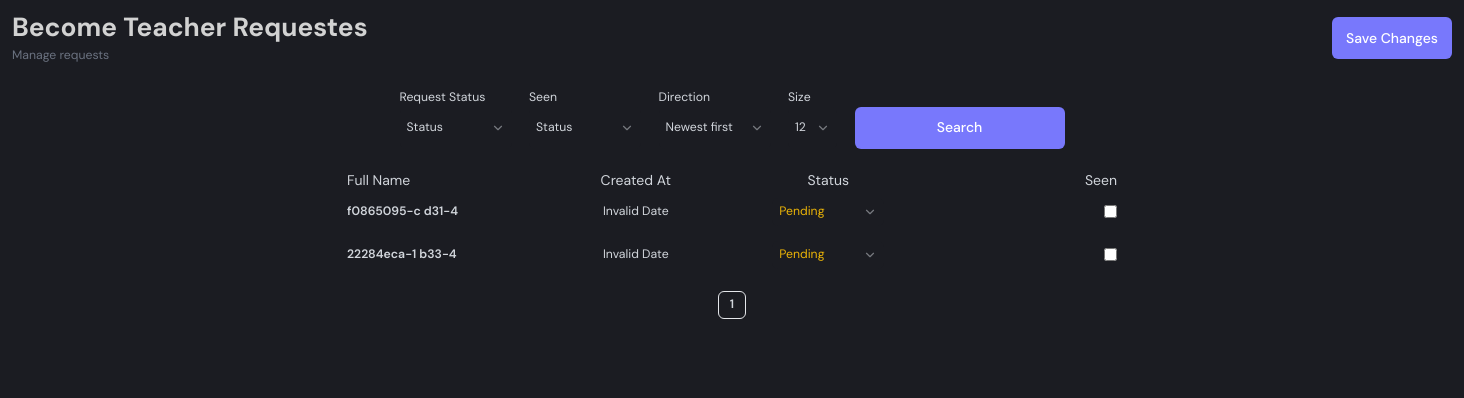
Test: TeacherRequestAdminPage › Interactions › changed values are reflected
The width and height of the screenshot is (1464, 398).
Step 1. Click the dropdown labelled "Pending" in the row of "f0865095-c" → click(828, 212), box [772,198,884,226]
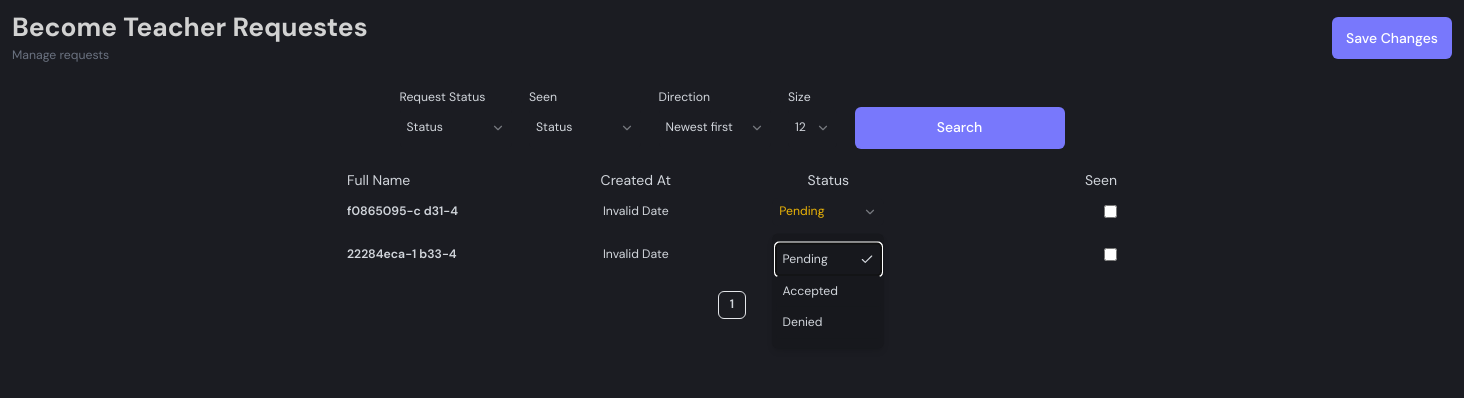
Step 2. Click the option "Accepted" → click(828, 291), box [776,275,880,306]
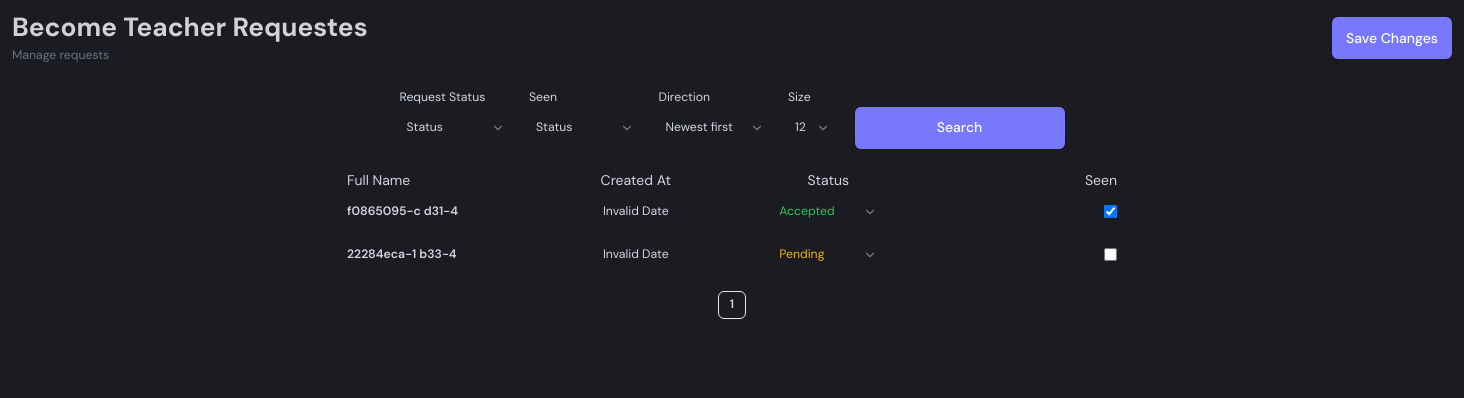
Step 3. Click the dropdown labelled "Pending" → click(828, 254), box [772,240,884,268]
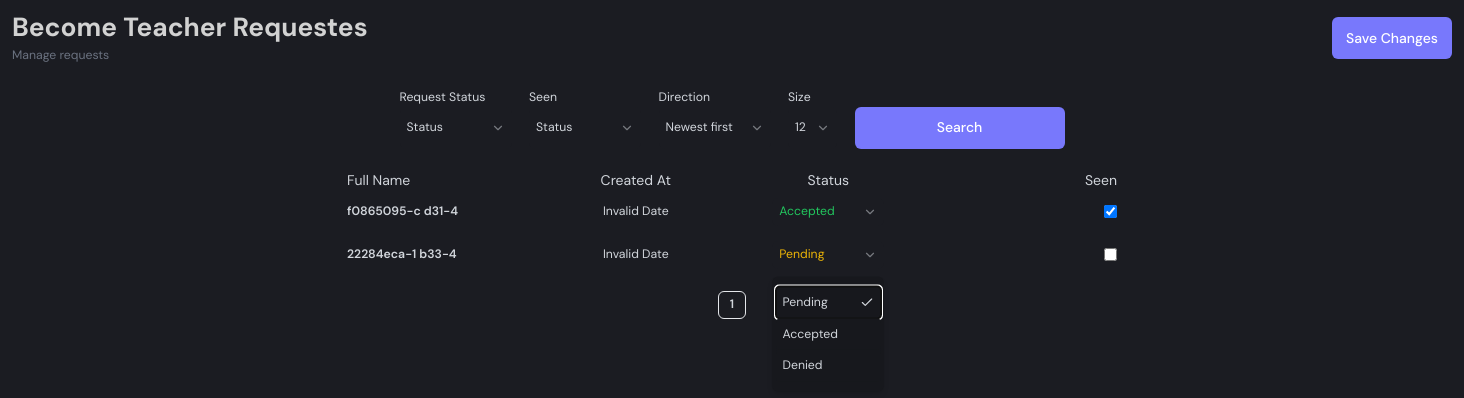
Step 4. Click the option "Denied" → click(828, 365), box [776,350,880,381]
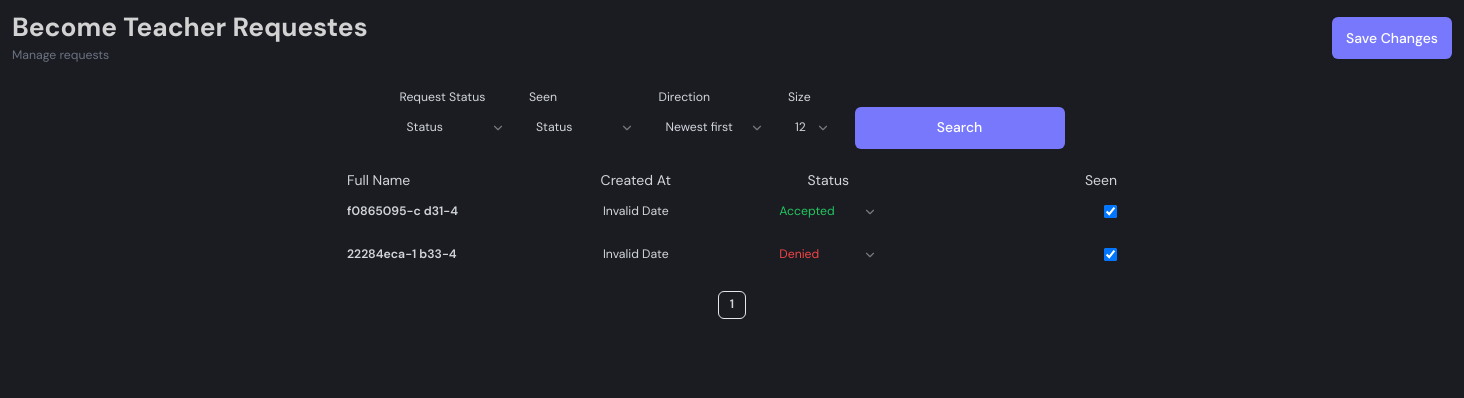
Now the text "Accepted" is shown, box [779,203,835,220]
Now the text "Denied" is shown, box [779,246,819,263]
Now the dropdown "Pending" is gone
